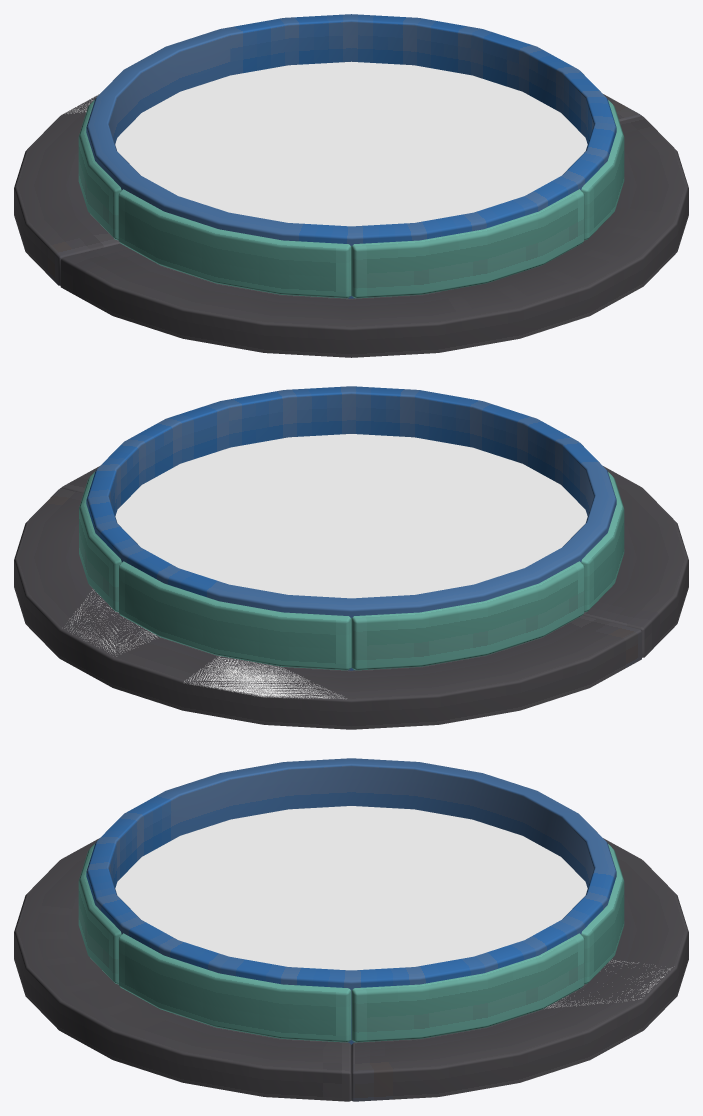
Rendered from objects_un_pobjpool01.gltf.
3 views of the same model, one above another, from view 1: azimuth 30°, elevation 25°; view 2: azimuth 150°, elevation 25°; view 3: azimuth 270°, elevation 25° (orthographic).
Parts seen in each view (by area): view 1: water_mesh_shape:objects_un_pobjpool01_water, carpet_shape:objects_un_pobjpool01_object, poolwall_shape:objects_un_pobjpool01_object, cover_shape:objects_un_pobjpool01_object; view 2: water_mesh_shape:objects_un_pobjpool01_water, carpet_shape:objects_un_pobjpool01_object, poolwall_shape:objects_un_pobjpool01_object, cover_shape:objects_un_pobjpool01_object, shadow_model_shape:objects_un_pobjpool01_shadow; view 3: water_mesh_shape:objects_un_pobjpool01_water, carpet_shape:objects_un_pobjpool01_object, poolwall_shape:objects_un_pobjpool01_object, cover_shape:objects_un_pobjpool01_object.
Part boxes in pixels (x1=…): water_mesh_shape:objects_un_pobjpool01_water: x1=115, y1=61, x2=587, y2=226; carpet_shape:objects_un_pobjpool01_object: x1=14, y1=93, x2=688, y2=357; poolwall_shape:objects_un_pobjpool01_object: x1=86, y1=14, x2=616, y2=298; cover_shape:objects_un_pobjpool01_object: x1=78, y1=100, x2=624, y2=298; water_mesh_shape:objects_un_pobjpool01_water: x1=115, y1=434, x2=587, y2=598; carpet_shape:objects_un_pobjpool01_object: x1=14, y1=466, x2=688, y2=729; poolwall_shape:objects_un_pobjpool01_object: x1=86, y1=386, x2=616, y2=670; cover_shape:objects_un_pobjpool01_object: x1=79, y1=472, x2=624, y2=670; shadow_model_shape:objects_un_pobjpool01_shadow: x1=64, y1=589, x2=346, y2=698; water_mesh_shape:objects_un_pobjpool01_water: x1=115, y1=806, x2=587, y2=970; carpet_shape:objects_un_pobjpool01_object: x1=14, y1=838, x2=688, y2=1101; poolwall_shape:objects_un_pobjpool01_object: x1=86, y1=758, x2=616, y2=1044; cover_shape:objects_un_pobjpool01_object: x1=78, y1=844, x2=624, y2=1042.
Size of what is drawn, in the model's own units: 2.66 by 0.4012 by 2.66.
3 materials, 1 textured.
